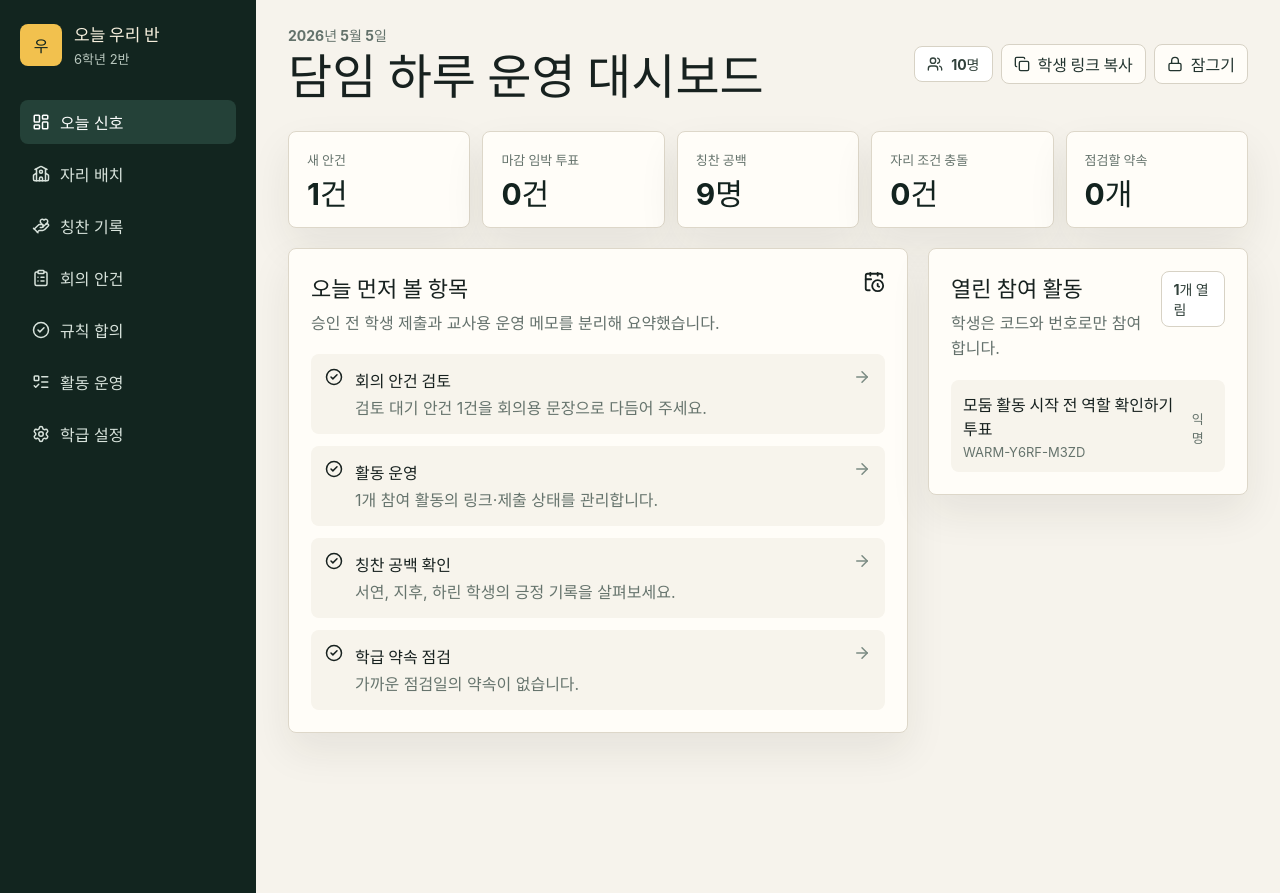
Test case: homeroom app workflows › blocks deleting the final remaining class
The width and height of the screenshot is (1280, 893).
Click the button "학급 설정". click: [128, 434]
box: left=20, top=412, right=236, bottom=456
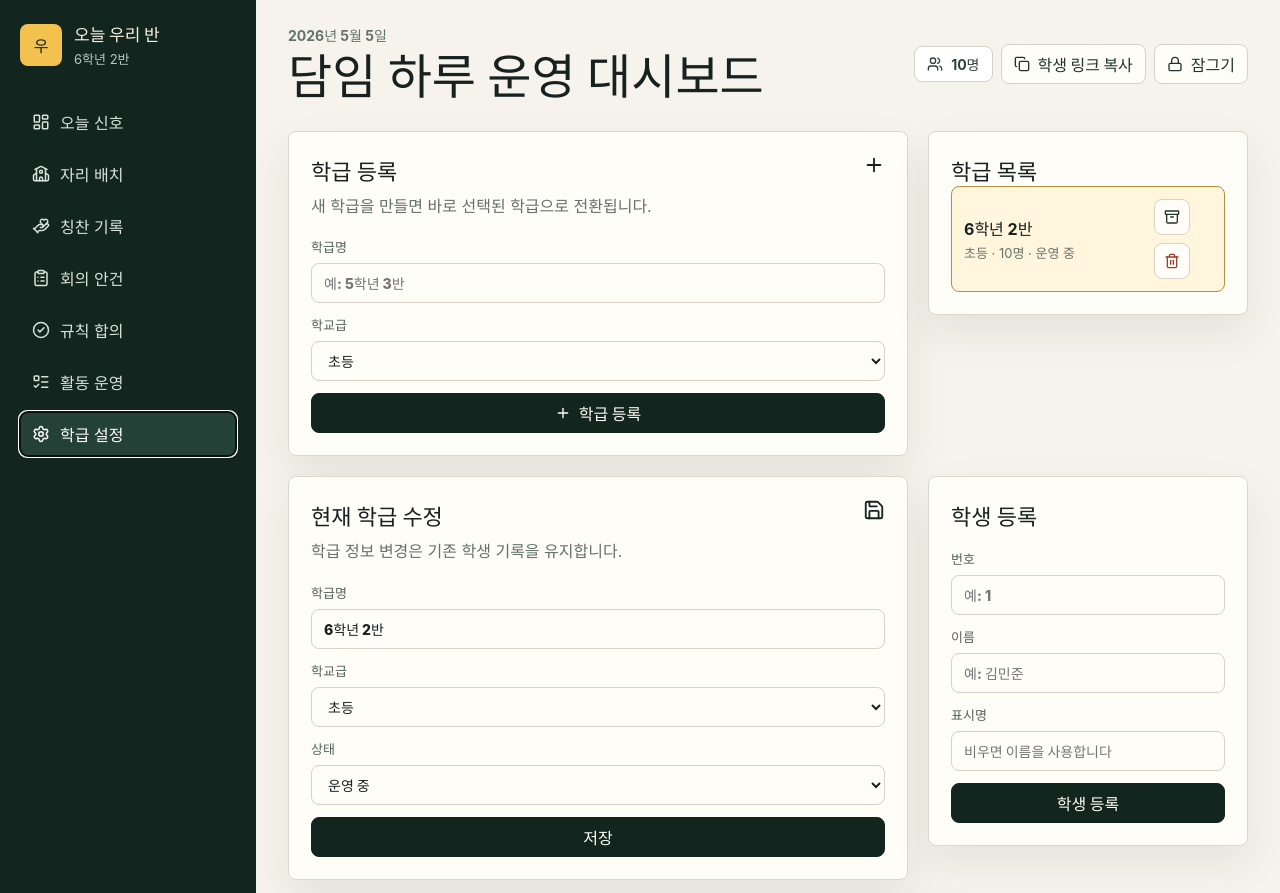
Click the button named "삭제". click: [1172, 261]
box: left=1154, top=243, right=1190, bottom=279
(page scrolled)
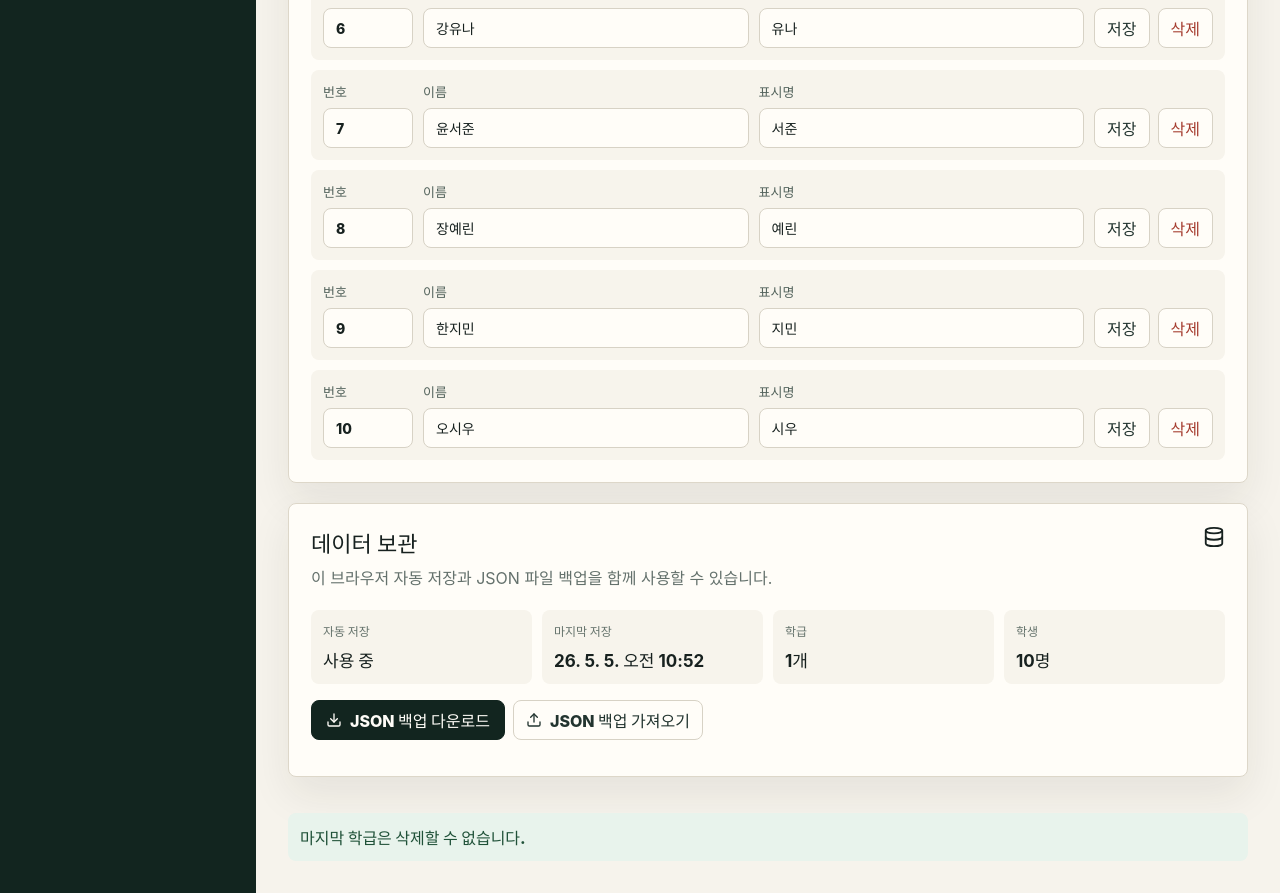
Expected: the message reads "마지막 학급은 삭제할 수 없습니다.", left=300, top=828, right=526, bottom=848
